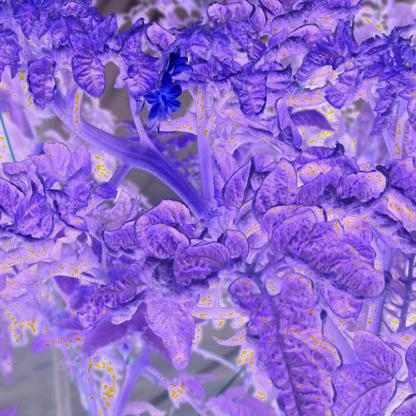tomato leaf yellow virus: (231, 270, 341, 415), (273, 217, 388, 305), (98, 188, 194, 279), (169, 233, 250, 303), (245, 158, 320, 233), (213, 161, 265, 220), (290, 39, 359, 82), (30, 51, 69, 118), (67, 48, 112, 103), (223, 73, 271, 120)
